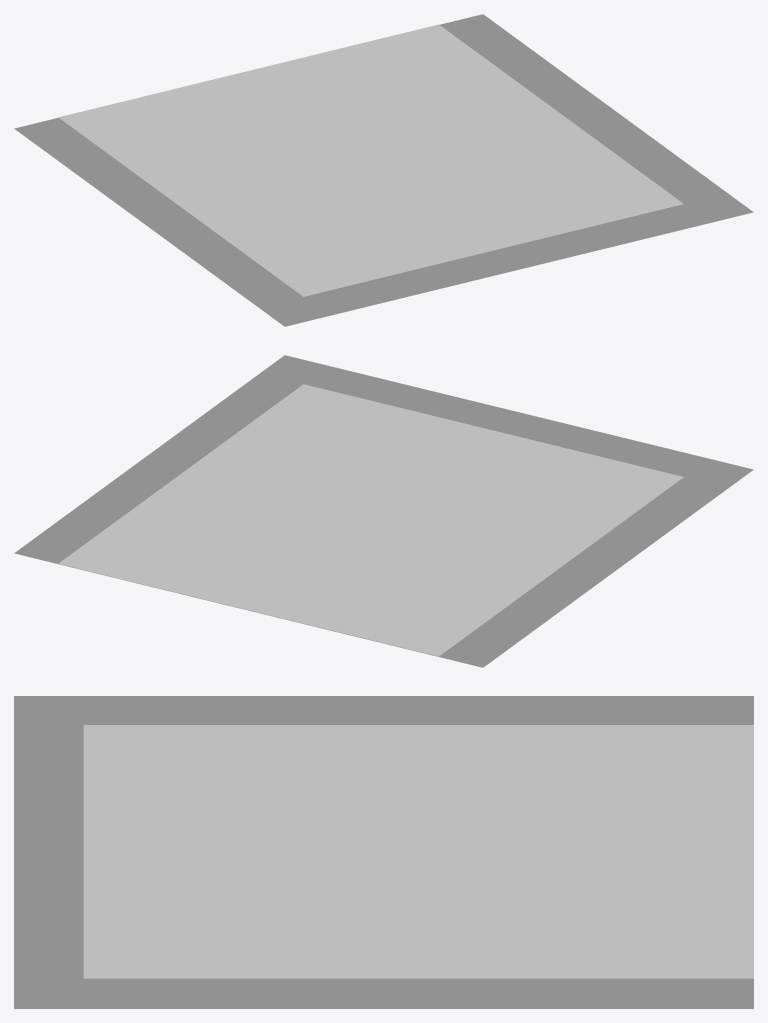
File: tile_for_home_1x1_022.fbx
The picture shows the model from 3 angles, top to bottom: view 1: azimuth 30°, elevation 25°; view 2: azimuth 150°, elevation 25°; view 3: azimuth 270°, elevation 25°; orthographic projection. The views are drawn at different scales.
Parts seen in each view (by area): view 1: tile_for_home_1x1_022; view 2: tile_for_home_1x1_022; view 3: tile_for_home_1x1_022.
Part boxes in pixels (left/top/right/bottom): tile_for_home_1x1_022: left=14, top=14, right=753, bottom=326; tile_for_home_1x1_022: left=14, top=355, right=753, bottom=667; tile_for_home_1x1_022: left=14, top=696, right=753, bottom=1008.
Bounding box in the file's own units: 800 × 0.7365 × 800.
